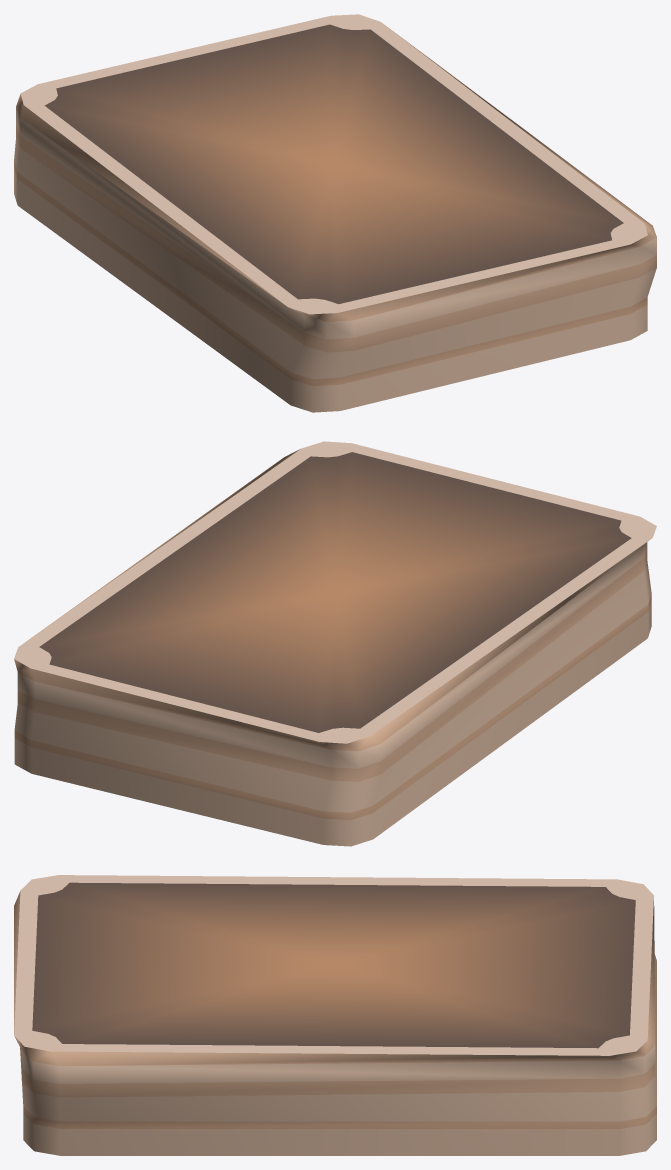
File: TarotCardStack2.fbx
3 views of the same model, one above another, from view 1: azimuth 30°, elevation 25°; view 2: azimuth 150°, elevation 25°; view 3: azimuth 270°, elevation 25° (orthographic). The views are drawn at different scales.
Parts seen in each view (by area): view 1: TarotCardStack2; view 2: TarotCardStack2; view 3: TarotCardStack2.
Part boxes in pixels (<box>): TarotCardStack2: <box>14,14,656,412</box>; TarotCardStack2: <box>14,441,656,846</box>; TarotCardStack2: <box>14,875,656,1155</box>.
Size of the model in its own units: 6 by 1.57 by 8.93.
